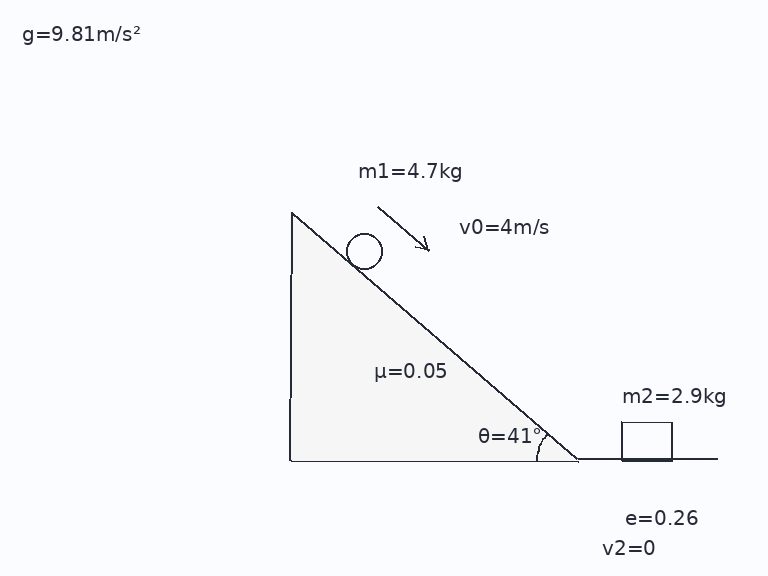ball: (344, 231, 384, 271)
block: (619, 421, 675, 462)
ramp: (289, 209, 579, 462)
